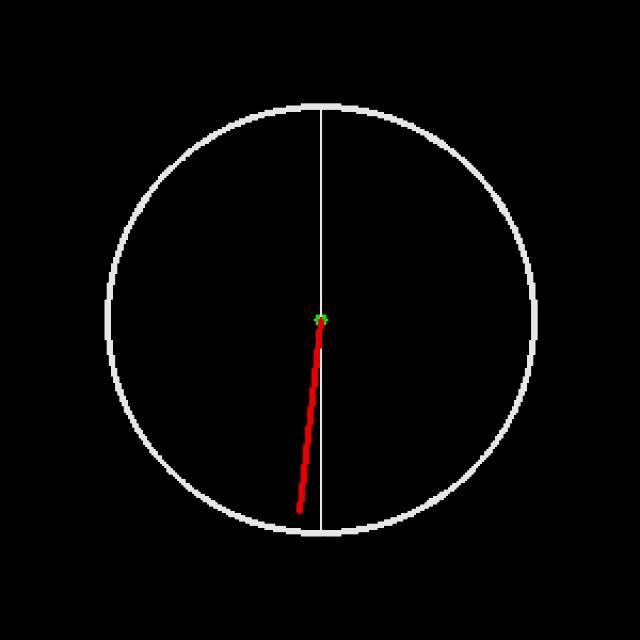Needle_Tip: (278, 487, 325, 528)
Needle_base: (298, 283, 360, 356)
